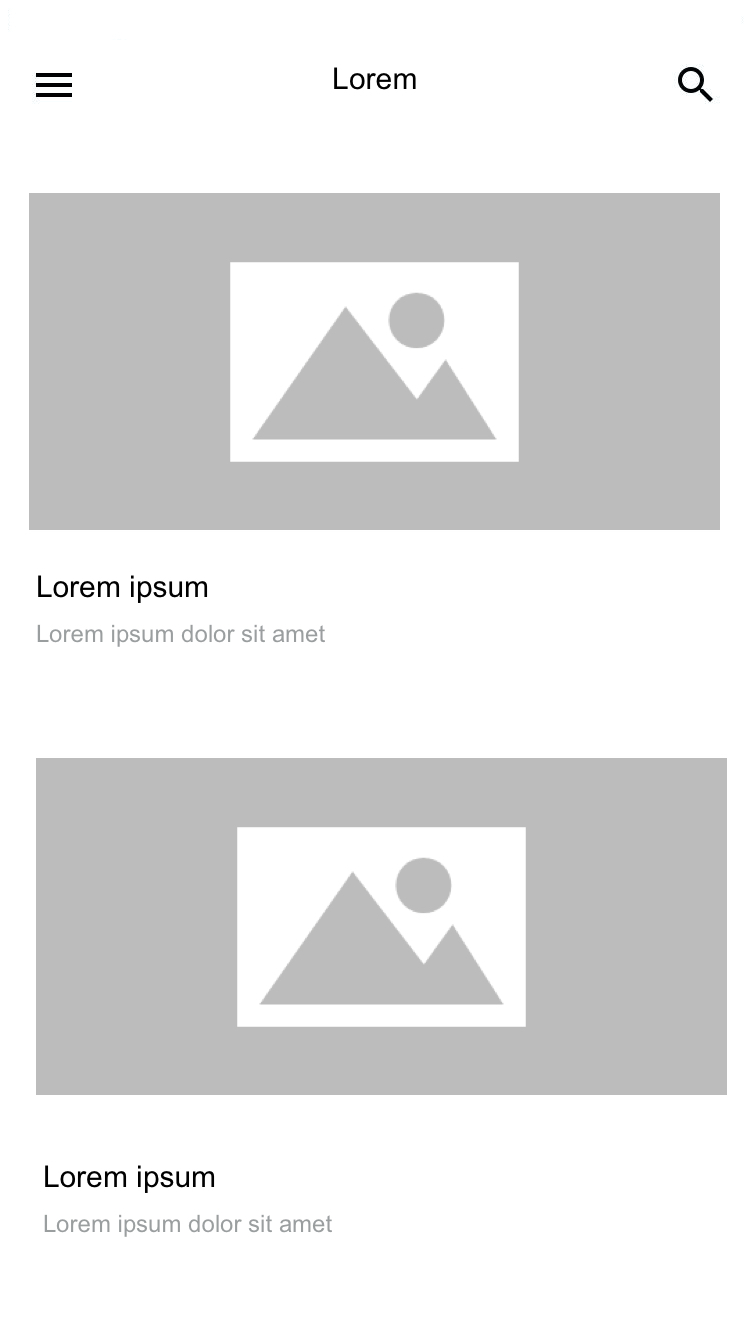Icon: (678, 67, 714, 104), (36, 73, 74, 99)
Image: (36, 757, 728, 1096), (30, 193, 721, 531)
Text: (44, 1214, 333, 1238), (38, 624, 326, 648), (38, 575, 209, 605), (45, 1164, 216, 1194), (334, 67, 417, 91)
